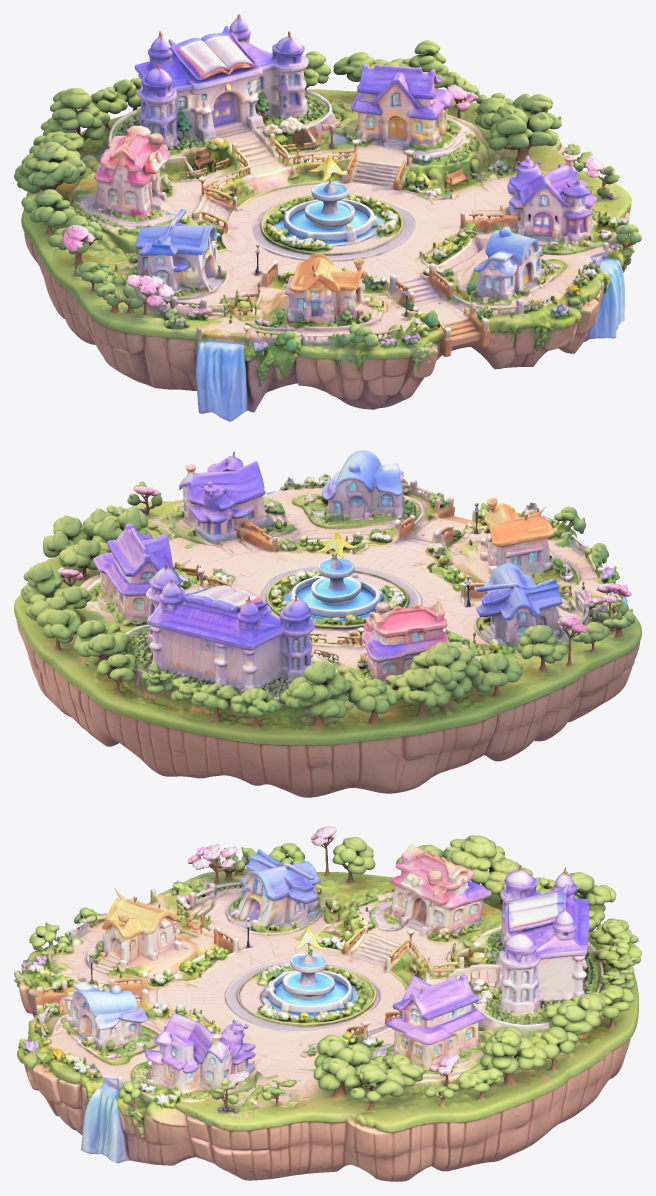
Rendered from village.glb.
3 views of the same model, one above another, from view 1: azimuth 30°, elevation 25°; view 2: azimuth 150°, elevation 25°; view 3: azimuth 270°, elevation 25° (orthographic).
Visible parts, largest first — view 1: model; view 2: model; view 3: model.
Boxes of the visible parts, x1,y1,x2,y2 form: model: (14,14,641,421); model: (14,450,641,797); model: (14,826,641,1181).
Bounding box in the file's own units: 1.95 × 0.6632 × 2.
Materials: 1 (1 with a texture image).
